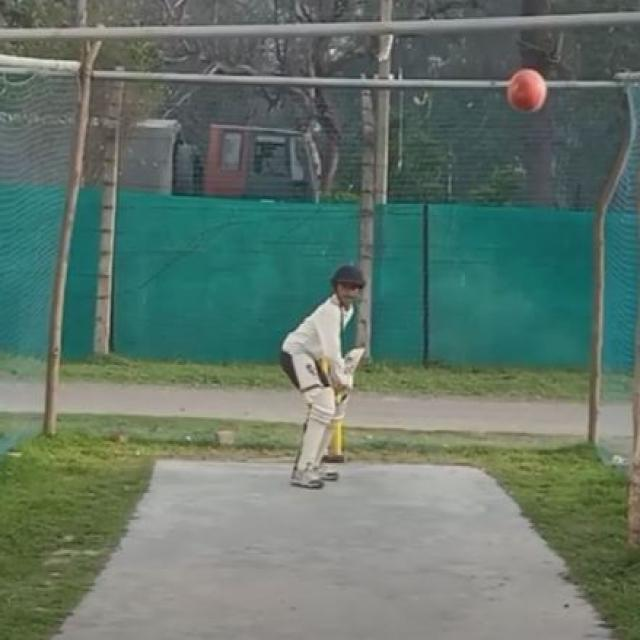ball: (497, 67, 550, 123)
